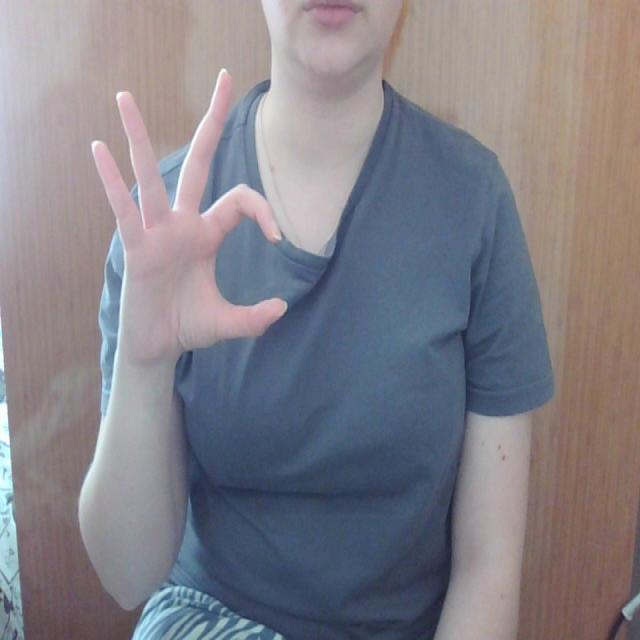Tuvalet: (69, 51, 298, 374)
